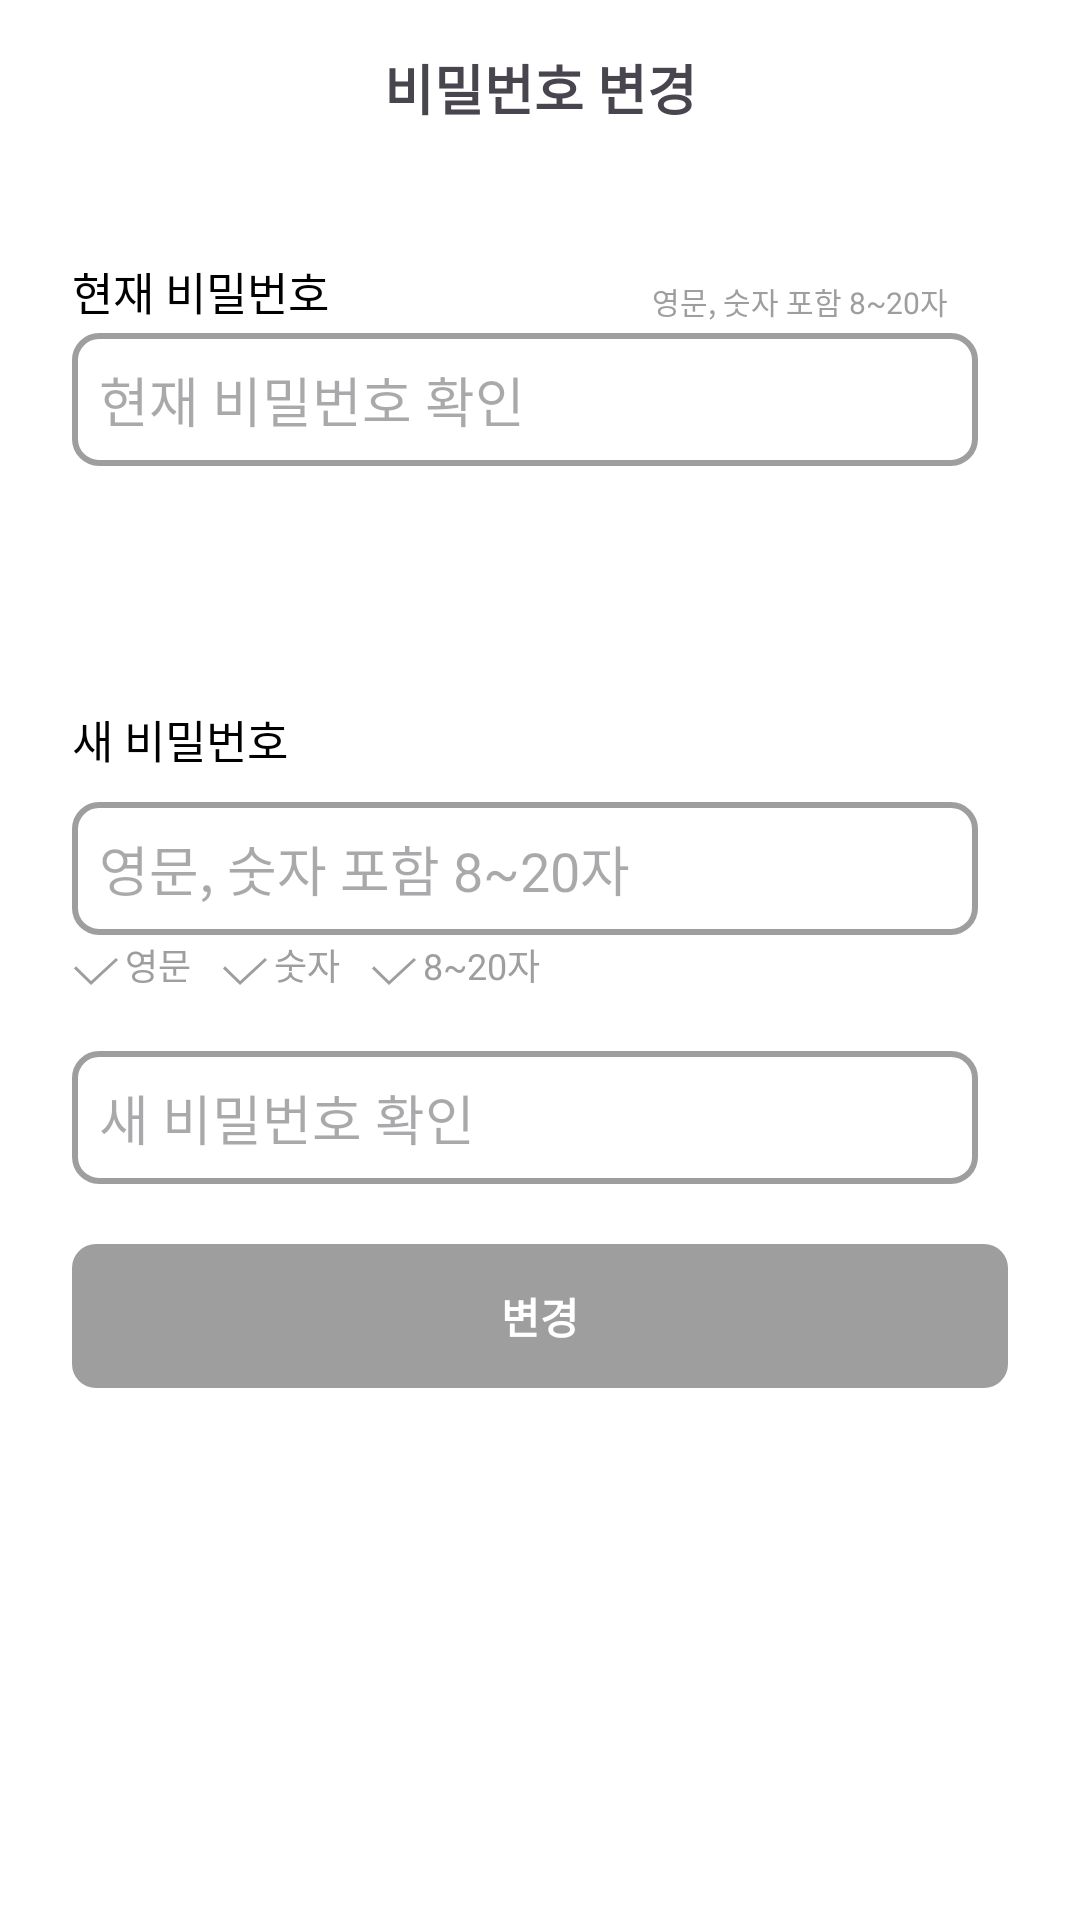

Icons on this 1080×1920 Android screen, each with the point to tap as (x=x, y=y):
check: (x=96, y=971), (x=245, y=971), (x=394, y=971)
